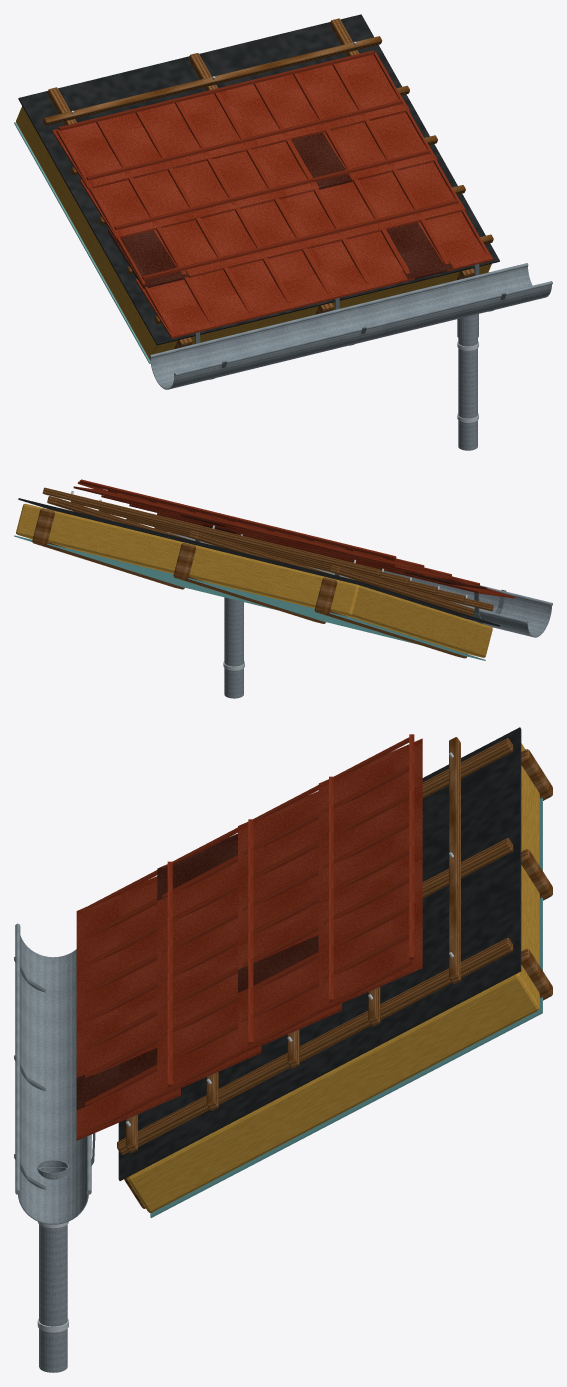
Rendered from modell.glb.
3 renders of one model, top to bottom at view 1: azimuth 30°, elevation 25°; view 2: azimuth 150°, elevation 25°; view 3: azimuth 270°, elevation 25°, orthographic. The views are drawn at different scales.
Visible parts, largest first — view 1: g06-deckziegel_deckung, g06-zusatzebene_zusatzebene, g06-rinne_, g06-daemmung_daemmung, g06-deckziegel_deckung.001, g06-lattung_lattung, g06-fallrohr_, g06-luftdichtheit_luftdichtheit; view 2: g06-daemmung_daemmung, g06-lattung_lattung, g06-deckziegel_deckung, g06-sparren_tragwerk, g06-luftdichtheit_luftdichtheit, g06-rinne_, g06-zusatzebene_zusatzebene, g06-fallrohr_, g06-deckziegel_deckung.001; view 3: g06-deckziegel_deckung, g06-zusatzebene_zusatzebene, g06-daemmung_daemmung, g06-rinne_, g06-lattung_lattung, g06-deckziegel_deckung.001, g06-fallrohr_, g06-luftdichtheit_luftdichtheit, g06-sparren_tragwerk.
Part boxes in pixels (x1,y1,x2,y2): g06-deckziegel_deckung: (52, 50, 493, 338); g06-zusatzebene_zusatzebene: (18, 14, 499, 345); g06-rinne_: (149, 263, 552, 389); g06-daemmung_daemmung: (16, 106, 491, 359); g06-deckziegel_deckung.001: (108, 132, 453, 288); g06-lattung_lattung: (42, 18, 493, 324); g06-fallrohr_: (458, 338, 477, 450); g06-luftdichtheit_luftdichtheit: (14, 122, 150, 363); g06-daemmung_daemmung: (16, 503, 492, 657); g06-lattung_lattung: (42, 487, 493, 615); g06-deckziegel_deckung: (73, 479, 514, 598); g06-sparren_tragwerk: (32, 508, 467, 658); g06-luftdichtheit_luftdichtheit: (14, 535, 485, 660); g06-rinne_: (170, 533, 552, 637); g06-zusatzebene_zusatzebene: (18, 498, 499, 626); g06-fallrohr_: (224, 597, 243, 698); g06-deckziegel_deckung.001: (180, 514, 486, 589); g06-deckziegel_deckung: (76, 734, 422, 1140); g06-zusatzebene_zusatzebene: (118, 727, 521, 1180); g06-daemmung_daemmung: (127, 743, 539, 1212); g06-rinne_: (15, 923, 91, 1224); g06-lattung_lattung: (117, 737, 513, 1155); g06-deckziegel_deckung.001: (76, 833, 318, 1109); g06-fallrohr_: (39, 1224, 67, 1372); g06-luftdichtheit_luftdichtheit: (150, 798, 542, 1217); g06-sparren_tragwerk: (124, 749, 552, 1208).
Bounding box in the file's own units: 2.3 × 1.78 × 1.97.
9 materials, 6 textured.
